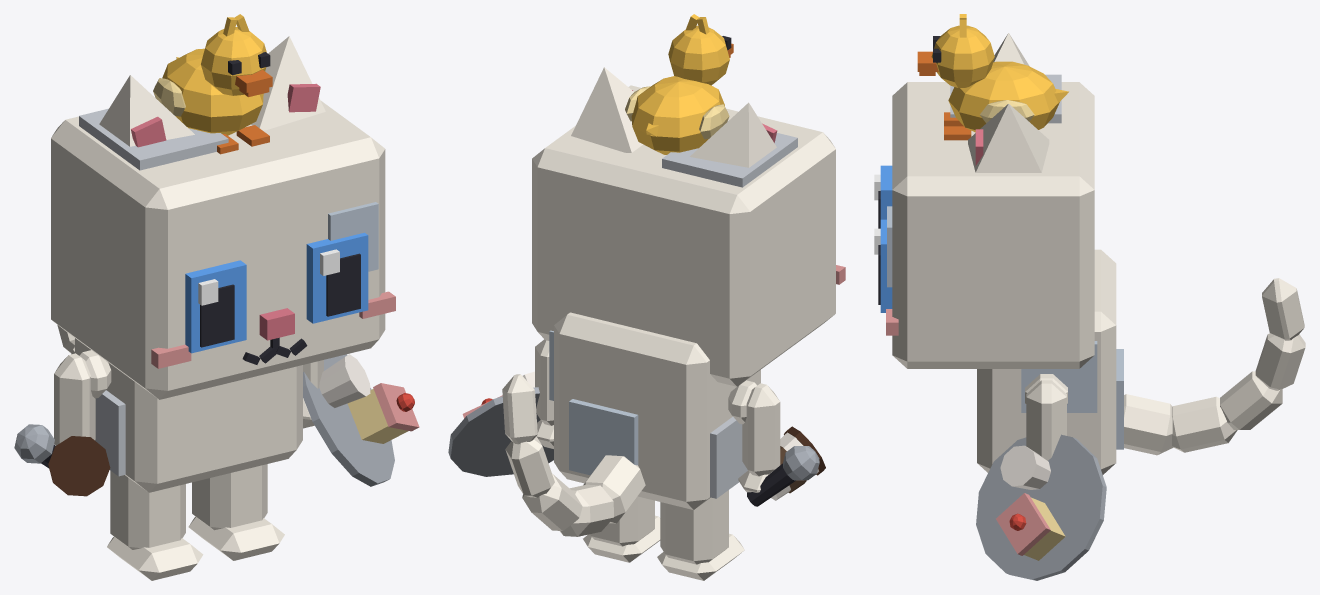
Rendered from CatCafe_Cat_Duckling_Work.fbx.
3 renders of one model, left to right at view 1: azimuth 30°, elevation 25°; view 2: azimuth 150°, elevation 25°; view 3: azimuth 270°, elevation 25°, orthographic. The views are drawn at different scales.
Parts seen in each view (by area): view 1: CatCafe_Cat_Duckling_Work_Head, CatCafe_Cat_Duckling_Work_Body, CatCafe_Cat_Duckling_Work_Prop, CatCafe_Cat_Duckling_Work_Held_Waiter, CatCafe_Cat_Duckling_Work_LegB2, CatCafe_Cat_Duckling_Work_LegB1, CatCafe_Cat_Duckling_Work_Eye2, CatCafe_Cat_Duckling_Work_Eye1, CatCafe_Cat_Duckling_Work_EarL, CatCafe_Cat_Duckling_Work_EarR, CatCafe_Cat_Duckling_Work_LegF2, CatCafe_Cat_Duckling_Work_Held_Barista (+2 smaller); view 2: CatCafe_Cat_Duckling_Work_Head, CatCafe_Cat_Duckling_Work_Body, CatCafe_Cat_Duckling_Work_Tail, CatCafe_Cat_Duckling_Work_Prop, CatCafe_Cat_Duckling_Work_LegB2, CatCafe_Cat_Duckling_Work_Held_Waiter, CatCafe_Cat_Duckling_Work_LegF2, CatCafe_Cat_Duckling_Work_EarL, CatCafe_Cat_Duckling_Work_EarR, CatCafe_Cat_Duckling_Work_LegB1, CatCafe_Cat_Duckling_Work_Held_Entertainer, CatCafe_Cat_Duckling_Work_LegF1 (+1 smaller); view 3: CatCafe_Cat_Duckling_Work_Head, CatCafe_Cat_Duckling_Work_Held_Waiter, CatCafe_Cat_Duckling_Work_Body, CatCafe_Cat_Duckling_Work_Tail, CatCafe_Cat_Duckling_Work_Prop, CatCafe_Cat_Duckling_Work_EarL, CatCafe_Cat_Duckling_Work_LegF1, CatCafe_Cat_Duckling_Work_Eye1, CatCafe_Cat_Duckling_Work_Eye2, CatCafe_Cat_Duckling_Work_EarR.
Part boxes in pixels (bbox=[...]): CatCafe_Cat_Duckling_Work_Head: bbox=[51, 97, 395, 399]; CatCafe_Cat_Duckling_Work_Body: bbox=[75, 338, 302, 492]; CatCafe_Cat_Duckling_Work_Prop: bbox=[153, 14, 272, 154]; CatCafe_Cat_Duckling_Work_Held_Waiter: bbox=[303, 354, 419, 486]; CatCafe_Cat_Duckling_Work_LegB2: bbox=[107, 471, 203, 580]; CatCafe_Cat_Duckling_Work_LegB1: bbox=[188, 464, 284, 560]; CatCafe_Cat_Duckling_Work_Eye2: bbox=[185, 260, 246, 353]; CatCafe_Cat_Duckling_Work_Eye1: bbox=[306, 232, 368, 323]; CatCafe_Cat_Duckling_Work_EarL: bbox=[251, 36, 325, 130]; CatCafe_Cat_Duckling_Work_EarR: bbox=[99, 75, 194, 147]; CatCafe_Cat_Duckling_Work_LegF2: bbox=[54, 353, 95, 445]; CatCafe_Cat_Duckling_Work_Held_Barista: bbox=[48, 436, 110, 496]; CatCafe_Cat_Duckling_Work_Head: bbox=[532, 85, 845, 386]; CatCafe_Cat_Duckling_Work_Body: bbox=[549, 312, 760, 509]; CatCafe_Cat_Duckling_Work_Tail: bbox=[502, 374, 645, 536]; CatCafe_Cat_Duckling_Work_Prop: bbox=[625, 14, 733, 154]; CatCafe_Cat_Duckling_Work_LegB2: bbox=[657, 490, 744, 580]; CatCafe_Cat_Duckling_Work_Held_Waiter: bbox=[448, 371, 553, 476]; CatCafe_Cat_Duckling_Work_LegF2: bbox=[738, 383, 780, 492]; CatCafe_Cat_Duckling_Work_EarL: bbox=[571, 67, 642, 152]; CatCafe_Cat_Duckling_Work_EarR: bbox=[690, 102, 777, 167]; CatCafe_Cat_Duckling_Work_LegB1: bbox=[583, 496, 660, 562]; CatCafe_Cat_Duckling_Work_Held_Entertainer: bbox=[747, 446, 819, 506]; CatCafe_Cat_Duckling_Work_LegF1: bbox=[535, 339, 553, 448]; CatCafe_Cat_Duckling_Work_Head: bbox=[886, 74, 1094, 368]; CatCafe_Cat_Duckling_Work_Held_Waiter: bbox=[976, 434, 1106, 580]; CatCafe_Cat_Duckling_Work_Body: bbox=[977, 249, 1123, 474]; CatCafe_Cat_Duckling_Work_Tail: bbox=[1124, 278, 1305, 455]; CatCafe_Cat_Duckling_Work_Prop: bbox=[917, 14, 1068, 140]; CatCafe_Cat_Duckling_Work_EarL: bbox=[968, 103, 1049, 172]; CatCafe_Cat_Duckling_Work_LegF1: bbox=[1026, 380, 1066, 460]; CatCafe_Cat_Duckling_Work_Eye1: bbox=[874, 219, 892, 312]; CatCafe_Cat_Duckling_Work_Eye2: bbox=[874, 165, 892, 228]; CatCafe_Cat_Duckling_Work_EarR: bbox=[993, 33, 1029, 66].
Size of the model in its own units: 1.53 by 2.14 by 1.62.
1 material, 1 textured.
